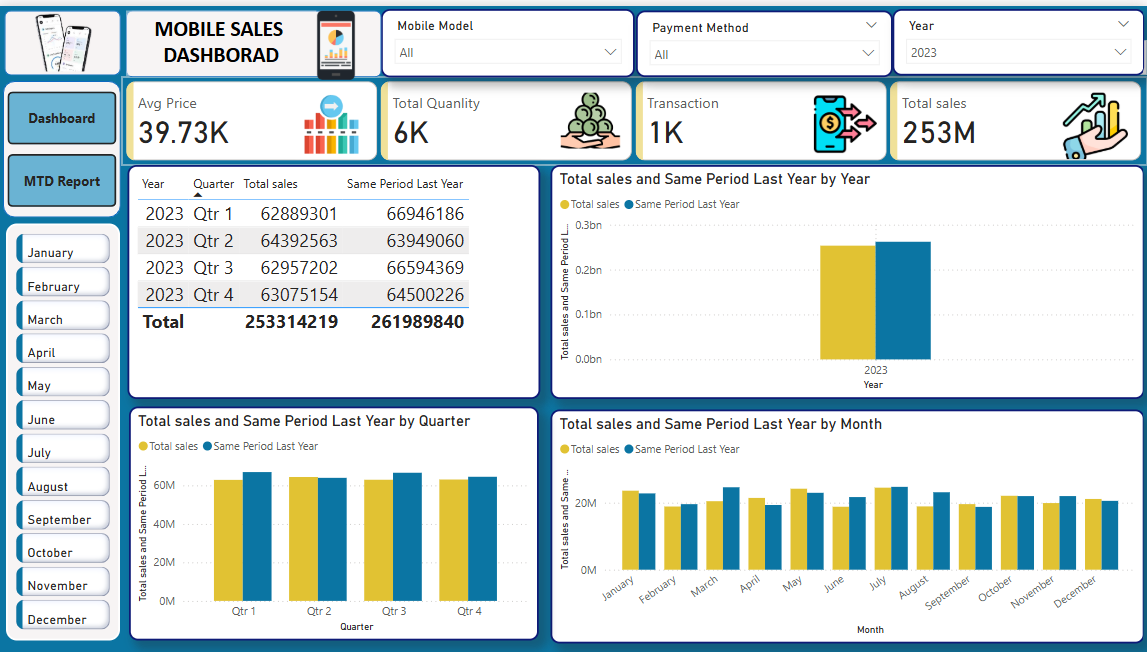

Layout of this report page (visuals, bound fields, positions):
{"tool":"powerbi","page":{"name":"Same Period Last Year ","canvas":[1280,720],"ordinal":2},"visuals":[{"type":"shape","box":[8.1,5.4,129,72],"z":0},{"type":"image","box":[12.9,0,121,77.4],"z":1000},{"type":"shape","box":[6.5,83.9,130.6,151.6],"z":2000},{"type":"cardVisual","fields":{"Data":["Mobile Sales Data.Avg Price","Mobile Sales Data.Total Quanlity","Mobile Sales Data.Transaction","Mobile Sales Data.Total sales"]},"box":[138.3,78.3,1141.7,98.3],"z":3000},{"type":"slicer","fields":{"Values":["Mobile Sales Data.Mobile Model"]},"box":[427.4,3.2,282.3,75.8],"z":4000},{"type":"slicer","fields":{"Values":["Mobile Sales Data.Payment Method"]},"box":[709.7,4.8,285.5,74.2],"z":5000},{"type":"slicer","fields":{"Values":["custom calender.Date.Variation.Date Hierarchy.Year"]},"box":[995.7,3.8,280.6,74.2],"z":6000},{"type":"shape","box":[143.5,4.8,283.9,74.2],"z":7000},{"type":"textbox","box":[143.5,4.8,211.3,72.6],"z":8000},{"type":"image","box":[324.2,0,103.2,87.1],"z":9000},{"type":"advancedSlicerVisual","fields":{"Values":["custom calender.Date.Variation.Date Hierarchy.Month"]},"box":[10,241.7,126.7,463.3],"z":10000},{"type":"tableEx","fields":{"Values":["custom calender.Date.Variation.Date Hierarchy.Year","custom calender.Date.Variation.Date Hierarchy.Quarter","Mobile Sales Data.Total sales","Mobile Sales Data.Same Period Last Year"]},"box":[145,176.7,458.3,260],"z":11000},{"type":"clusteredColumnChart","fields":{"Category":["custom calender.Date.Variation.Date Hierarchy.Year","custom calender.Date.Variation.Date Hierarchy.Quarter"],"Y":["Mobile Sales Data.Total sales","Mobile Sales Data.Same Period Last Year"]},"box":[615,176.7,660,260],"z":12000},{"type":"clusteredColumnChart","fields":{"Y":["Mobile Sales Data.Total sales","Mobile Sales Data.Same Period Last Year"],"Category":["custom calender.Date.Variation.Date Hierarchy.Month"]},"box":[615,448.3,660,260],"z":13000},{"type":"clusteredColumnChart","fields":{"Y":["Mobile Sales Data.Total sales","Mobile Sales Data.Same Period Last Year"],"Category":["custom calender.Date.Variation.Date Hierarchy.Quarter"]},"box":[146.7,445,455,260],"z":14000},{"type":"pageNavigator","box":[11.7,95,121.7,128.3],"z":14001}]}

Visuals, with their boxes in screenshot pixels (x1, y1, x2, y2), scaled from the page's 1280x720 canvas onto the 1147x652 screenshot:
shape: rect(7, 5, 123, 70)
image: rect(12, 0, 120, 70)
shape: rect(6, 76, 123, 213)
cardVisual - Mobile Sales Data.Avg Price x Mobile Sales Data.Total Quanlity: rect(124, 71, 1146, 160)
slicer - Mobile Sales Data.Mobile Model: rect(383, 3, 636, 72)
slicer - Mobile Sales Data.Payment Method: rect(636, 4, 892, 72)
slicer - custom calender.Date.Variation.Date Hierarchy.Year: rect(892, 3, 1144, 71)
shape: rect(129, 4, 383, 72)
textbox: rect(129, 4, 318, 70)
image: rect(291, 0, 383, 79)
advancedSlicerVisual - custom calender.Date.Variation.Date Hierarchy.Month: rect(9, 219, 122, 638)
tableEx - custom calender.Date.Variation.Date Hierarchy.Year x custom calender.Date.Variation.Date Hierarchy.Quarter: rect(130, 160, 541, 395)
clusteredColumnChart - custom calender.Date.Variation.Date Hierarchy.Year x custom calender.Date.Variation.Date Hierarchy.Quarter: rect(551, 160, 1143, 395)
clusteredColumnChart - Mobile Sales Data.Total sales x Mobile Sales Data.Same Period Last Year: rect(551, 406, 1143, 641)
clusteredColumnChart - Mobile Sales Data.Total sales x Mobile Sales Data.Same Period Last Year: rect(131, 403, 539, 638)
pageNavigator: rect(10, 86, 120, 202)
